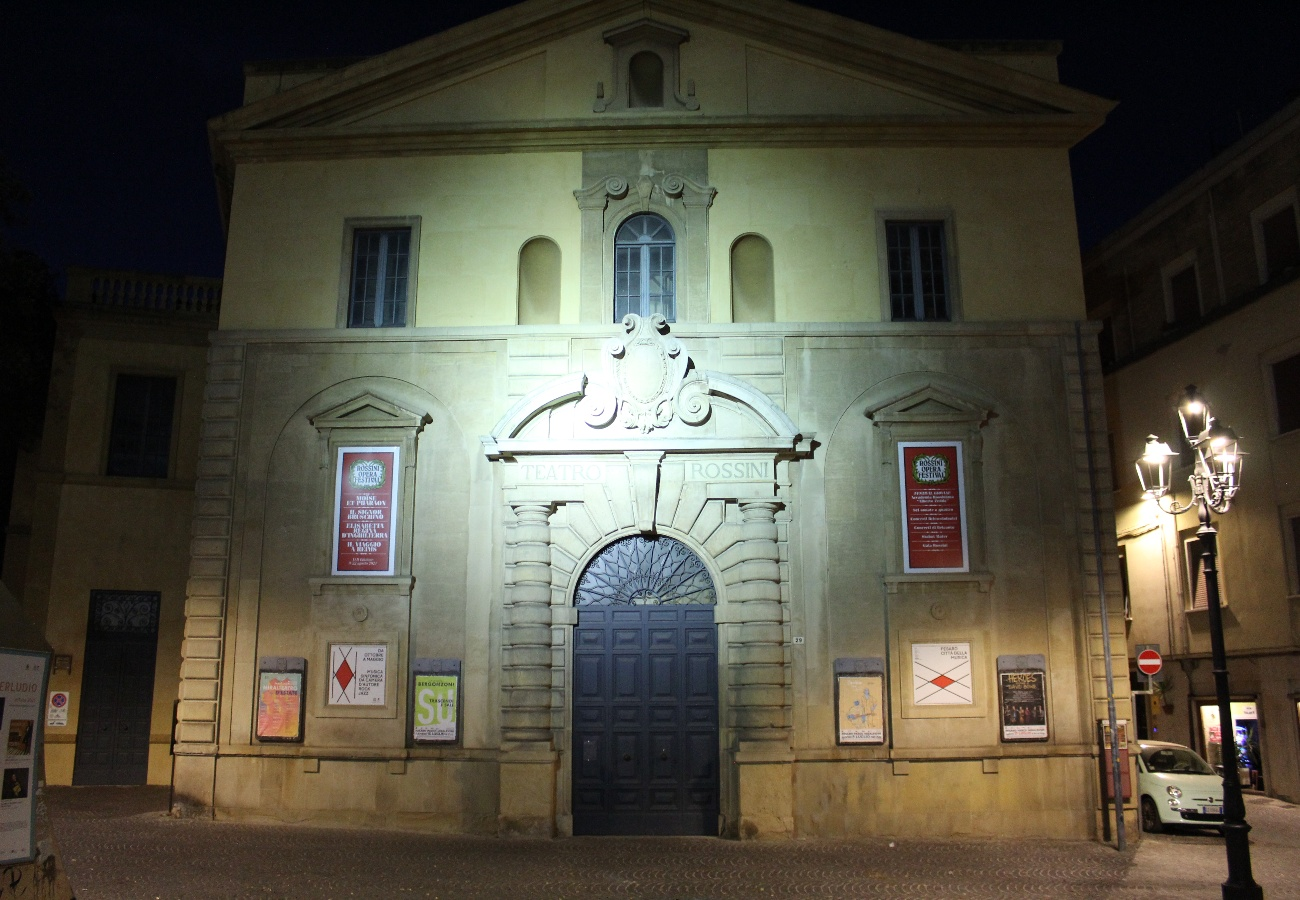Teatro Rossini: (168, 1, 1123, 846)
